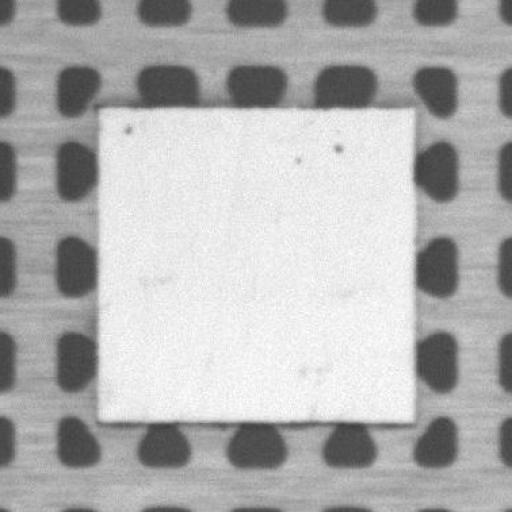DIE_INK: (332, 140, 341, 152), (293, 157, 302, 166), (122, 124, 130, 130)
